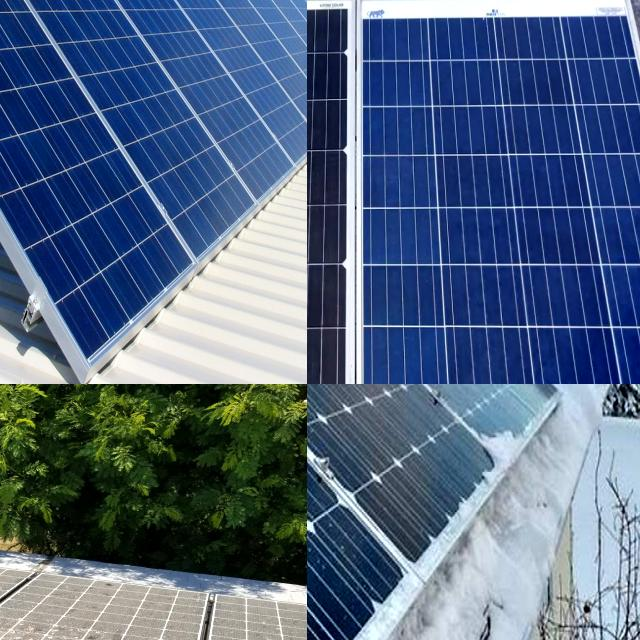bird: (0, 597, 49, 640), (0, 592, 33, 629)
crack: (352, 5, 640, 384), (307, 0, 494, 384), (86, 0, 179, 94), (130, 82, 205, 180), (240, 4, 304, 110), (72, 251, 136, 354), (46, 288, 114, 369), (206, 24, 269, 110), (105, 244, 156, 342), (246, 11, 307, 84), (52, 107, 111, 177), (133, 228, 187, 298), (26, 0, 115, 41), (44, 162, 94, 234), (0, 124, 47, 198), (13, 37, 62, 106), (34, 78, 86, 140), (55, 222, 101, 291), (25, 115, 66, 186), (0, 31, 39, 104), (68, 163, 110, 226), (0, 26, 29, 109), (86, 154, 130, 208), (0, 4, 32, 73), (0, 37, 26, 110), (0, 3, 23, 66), (0, 88, 24, 148), (0, 1, 20, 65), (0, 0, 21, 26)
panel: (471, 392, 528, 478)
